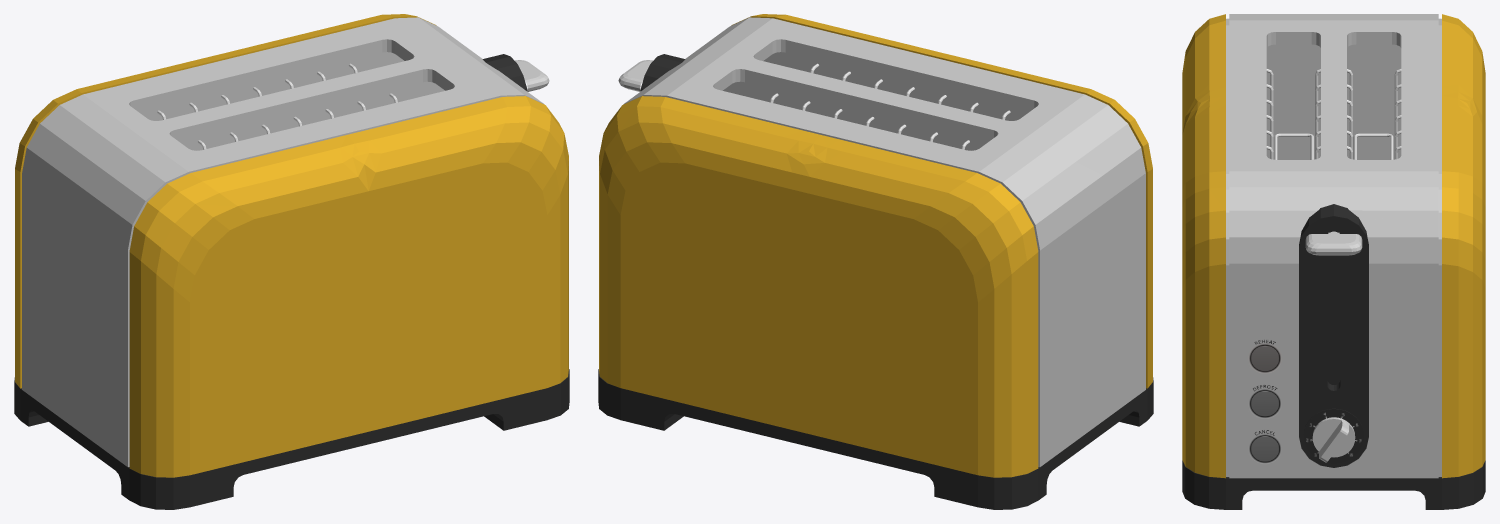
File: sweethome3d-scopia-toaster.glb
3 renders of one model, left to right at view 1: azimuth 30°, elevation 25°; view 2: azimuth 150°, elevation 25°; view 3: azimuth 270°, elevation 25°, orthographic.
Visible parts, largest first — view 1: body_Cube.006, plasticBase_Cube.001, plasticControls_Cylinder; view 2: body_Cube.006, plasticBase_Cube.001, plasticControls_Cylinder; view 3: body_Cube.006, plasticControls_Cylinder, plasticBase_Cube.001, wheelhandle_Cylinder.004, wheel_Cylinder.001, handle_Cube.007.
Part boxes in pixels (x1,y1,x2,y2): body_Cube.006: (15,14,568,477); plasticBase_Cube.001: (14,369,569,509); plasticControls_Cylinder: (482,54,527,90); body_Cube.006: (599,14,1152,477); plasticBase_Cube.001: (598,369,1153,509); plasticControls_Cylinder: (640,54,685,90); body_Cube.006: (1182,14,1485,478); plasticControls_Cylinder: (1299,204,1368,467); plasticBase_Cube.001: (1182,460,1485,509); wheelhandle_Cylinder.004: (1312,417,1355,462); wheel_Cylinder.001: (1303,408,1364,463); handle_Cube.007: (1305,231,1362,255).
Bounding box in the file's own units: 27.04 × 17.41 × 15.47.
Materials: 6 (2 with a texture image).
